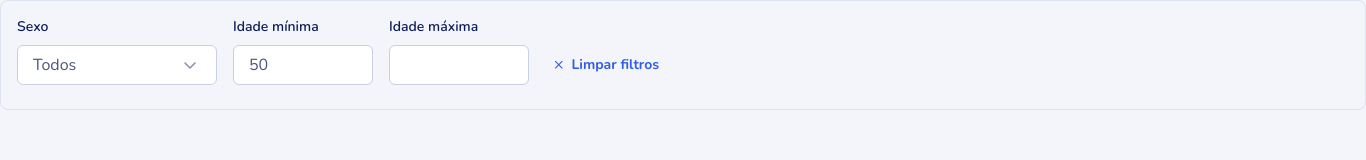
Test: PatientFilters › blocks min > max with an inline, linked error
The image size is (1366, 160).
Type "20" into the number field with id "filter-age-max" at (459, 65), box top-left (389, 45), bottom-right (529, 85)
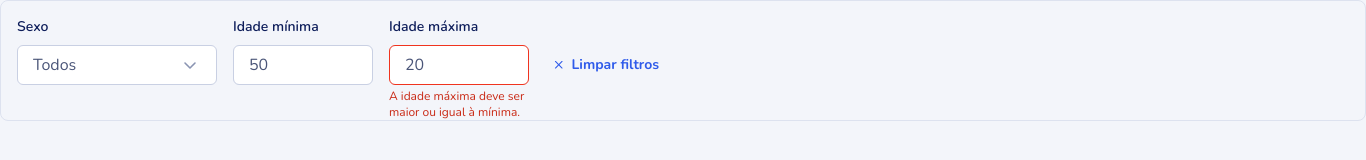
expect the text with id "filter-age-max-error" reads "A idade máxima deve ser maior ou igual à mínima.": met, box top-left (389, 88), bottom-right (524, 120)
Replace the text in the number field with id "filter-age-max" with "60" at (459, 65), box top-left (389, 45), bottom-right (529, 85)
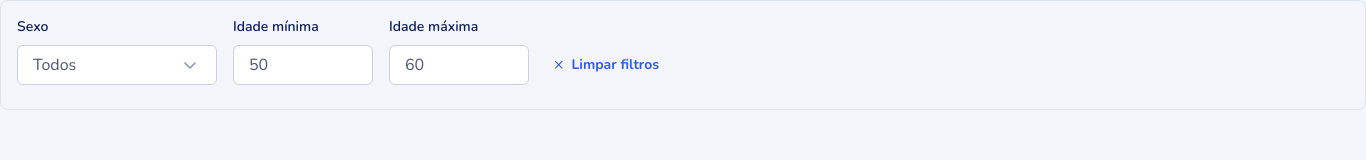
expect the text with id "filter-age-max-error" is gone: met
